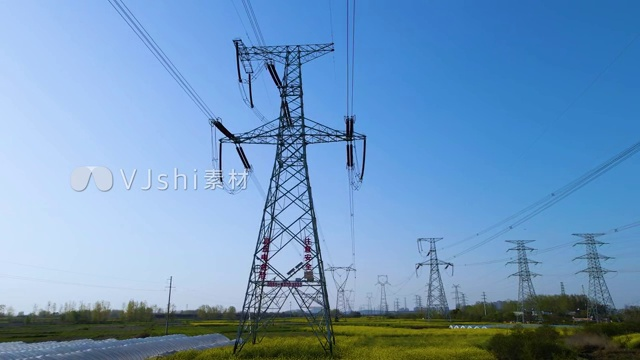tower_body: (215, 34, 352, 352), (566, 226, 619, 325), (412, 233, 459, 323), (500, 235, 548, 322)
tower_foot: (233, 280, 341, 352), (421, 296, 448, 316), (516, 303, 541, 320)
tower_head: (225, 38, 347, 63), (568, 230, 610, 246), (502, 237, 543, 252), (416, 237, 448, 245)
